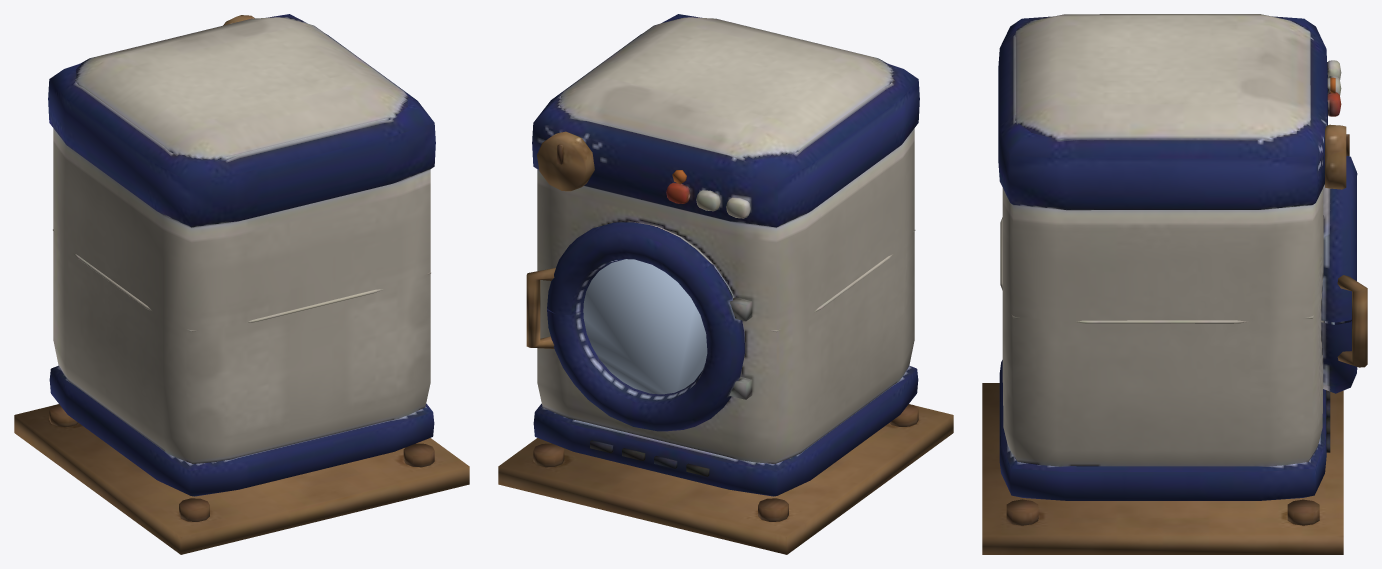
Rendered from table_dryer.glb.
3 views of the same model, side by side, from view 1: azimuth 30°, elevation 25°; view 2: azimuth 150°, elevation 25°; view 3: azimuth 270°, elevation 25° (orthographic). The views are drawn at different scales.
Parts seen in each view (by area): view 1: prop_table_dryer_felt, prop_table_dryer_wood; view 2: prop_table_dryer_felt, prop_table_dryer_wood, prop_table_dryer_glass; view 3: prop_table_dryer_felt, prop_table_dryer_wood.
Part boxes in pixels (x1,y1,x2,y2): prop_table_dryer_felt: [48, 14, 435, 496]; prop_table_dryer_wood: [14, 15, 469, 554]; prop_table_dryer_felt: [532, 14, 919, 496]; prop_table_dryer_wood: [498, 131, 953, 554]; prop_table_dryer_glass: [583, 259, 707, 394]; prop_table_dryer_felt: [998, 14, 1357, 500]; prop_table_dryer_wood: [982, 124, 1367, 554].
Size of the model in its own units: 0.54 by 0.69 by 0.5757.
4 materials, 3 textured.
